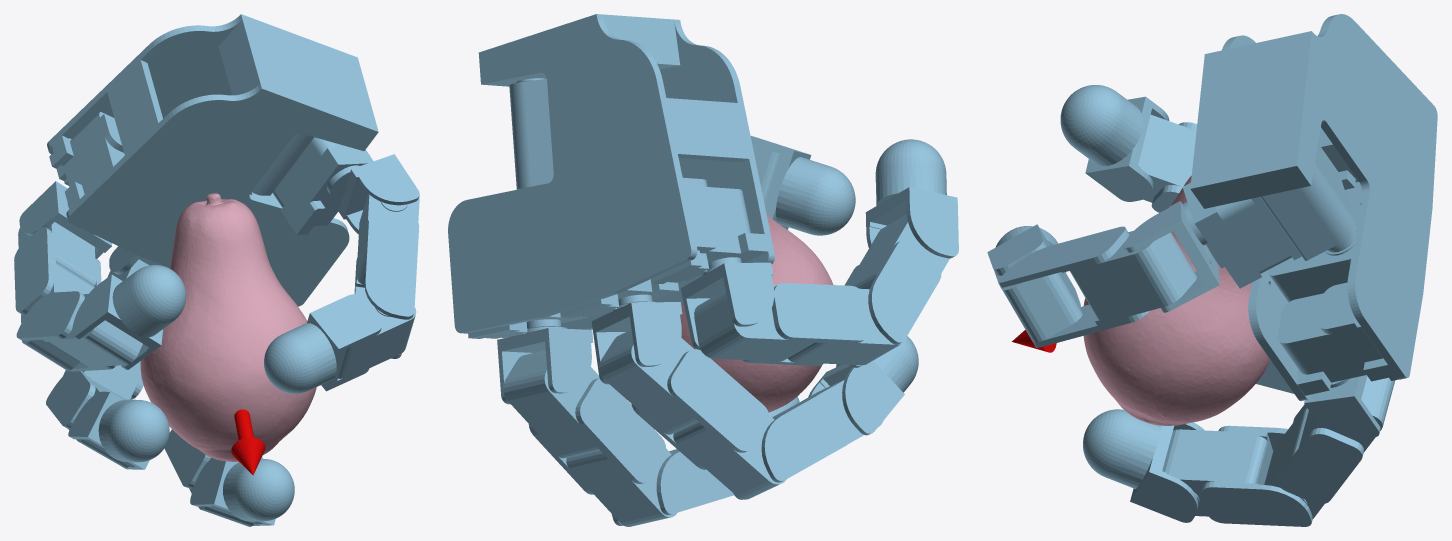
3 renders of one model, left to right at view 1: azimuth 30°, elevation 25°; view 2: azimuth 150°, elevation 25°; view 3: azimuth 270°, elevation 25°, orthographic. The views are drawn at different scales.
Parts seen in each view (by area): view 1: world, pear.stl; view 2: world, pear.stl; view 3: world, pear.stl.
Part boxes in pixels (x1=…): world: x1=14, y1=14, x2=419, y2=526; pear.stl: x1=140, y1=193, x2=316, y2=461; world: x1=448, y1=14, x2=958, y2=526; pear.stl: x1=680, y1=213, x2=833, y2=412; world: x1=987, y1=14, x2=1437, y2=526; pear.stl: x1=1083, y1=176, x2=1270, y2=425.
Size of the model in its own units: 0.1587 by 0.1945 by 0.1535.
